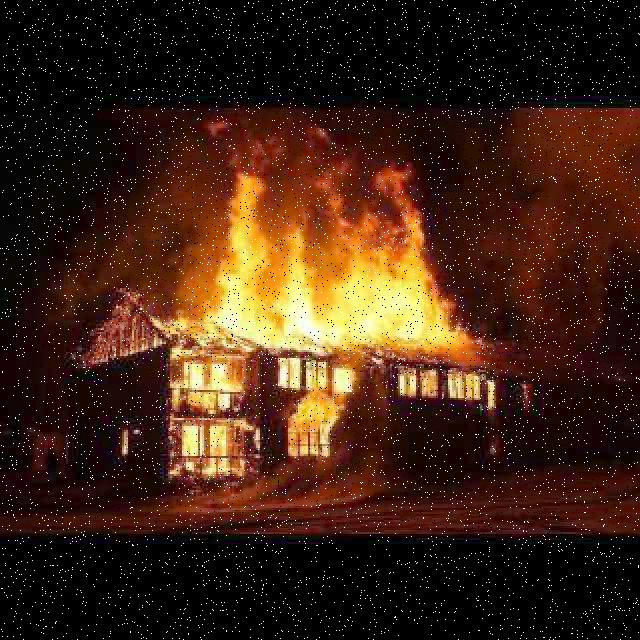fire: (214, 162, 472, 355)
